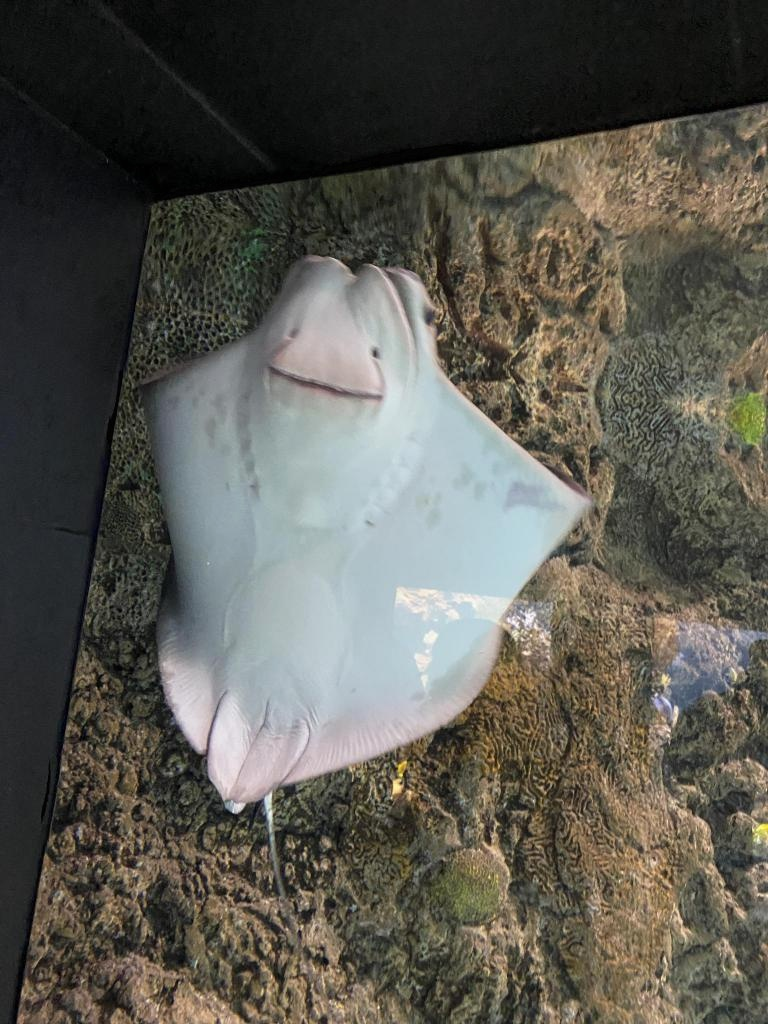stingray: (127, 254, 594, 816)
